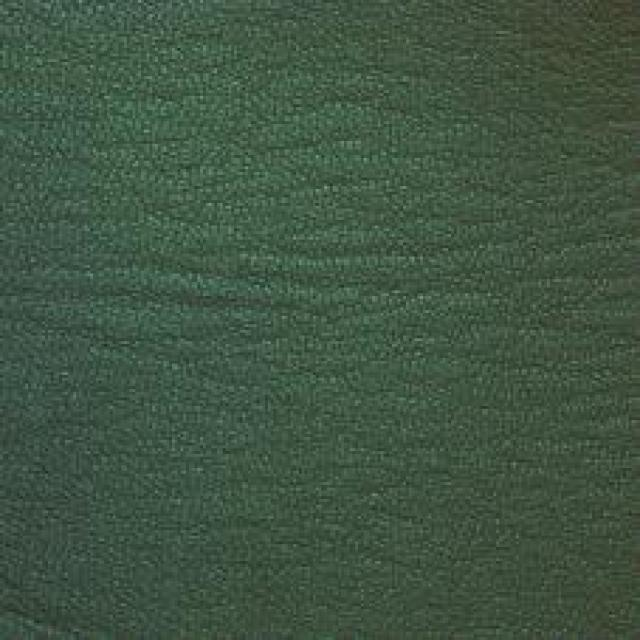Growth Marks: (103, 241, 494, 355)
